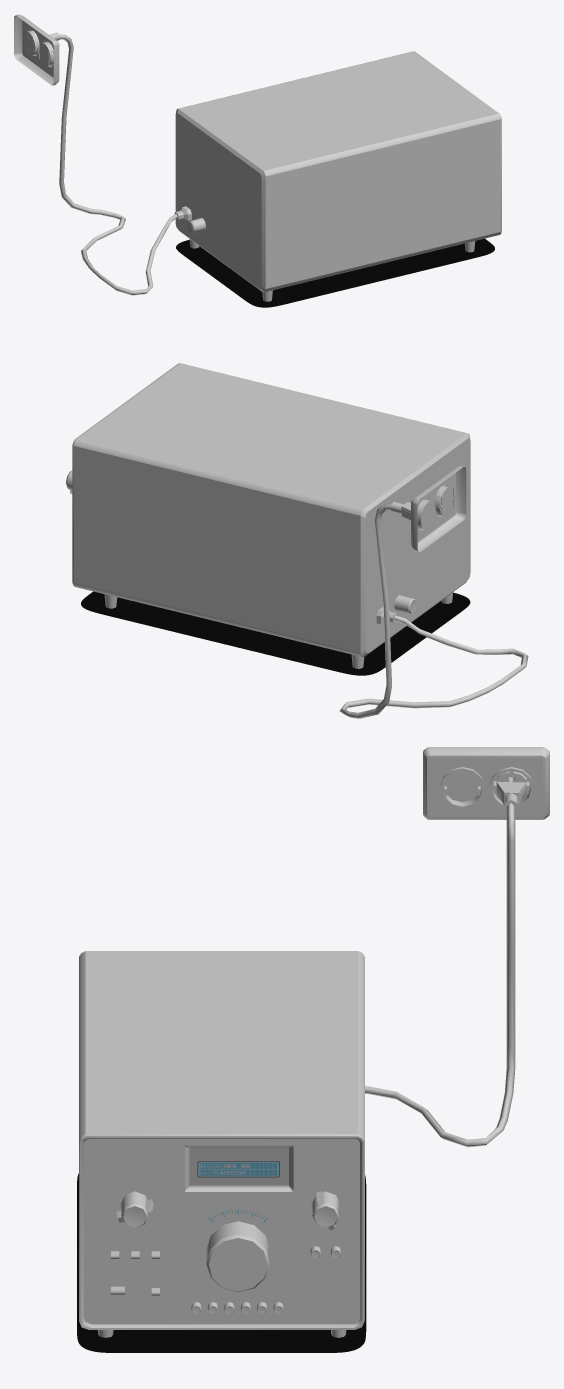
File: VFO.fbx
3 renders of one model, top to bottom at view 1: azimuth 30°, elevation 25°; view 2: azimuth 150°, elevation 25°; view 3: azimuth 270°, elevation 25°, orthographic. The views are drawn at different scales.
Parts seen in each view (by area): view 1: VFO, shadow, net_cable; view 2: VFO, shadow, net_cable; view 3: VFO, net_cable, shadow, glass, display_ON.
Part boxes in pixels (bbox=[...]): VFO: bbox=[175, 51, 501, 301]; shadow: bbox=[176, 238, 494, 307]; net_cable: bbox=[14, 14, 191, 295]; VFO: bbox=[66, 363, 470, 668]; shadow: bbox=[81, 591, 470, 675]; net_cable: bbox=[340, 465, 528, 718]; VFO: bbox=[79, 951, 364, 1337]; net_cable: bbox=[365, 747, 549, 1147]; shadow: bbox=[77, 1173, 366, 1352]; glass: bbox=[189, 1147, 289, 1187]; display_ON: bbox=[197, 1161, 279, 1177].
Bounding box in the file's own units: 70.17 × 38.7 × 55.21.
